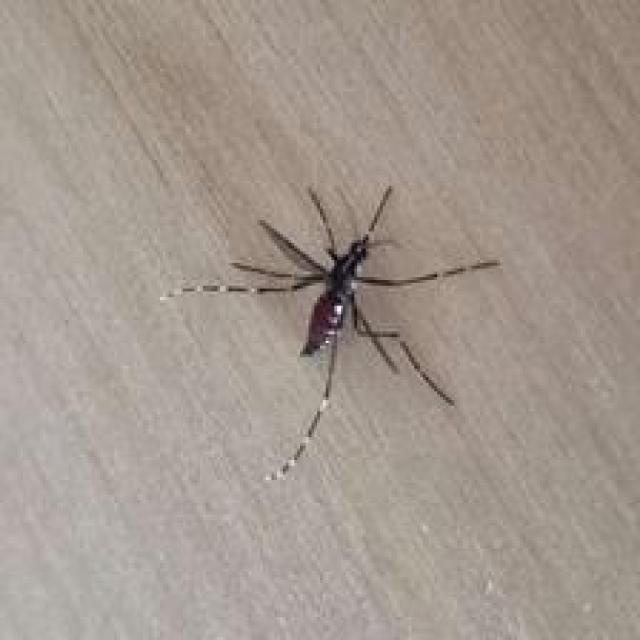Aedes albopictus: (160, 180, 503, 483)
